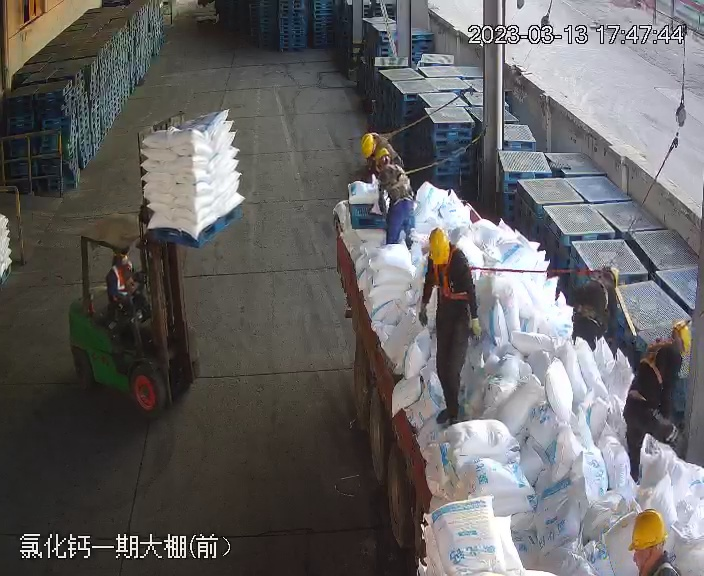belt: (428, 249, 470, 298), (641, 337, 677, 377), (383, 161, 415, 193)
head: (622, 506, 684, 576), (643, 323, 693, 373), (424, 228, 471, 280), (363, 139, 409, 179)
helmet: (627, 509, 668, 548), (668, 321, 694, 355), (427, 228, 451, 263), (370, 138, 391, 164), (359, 132, 377, 159)
people: (417, 228, 480, 425), (621, 322, 697, 485), (553, 263, 624, 357), (374, 148, 421, 249)
truck: (331, 124, 704, 576)
